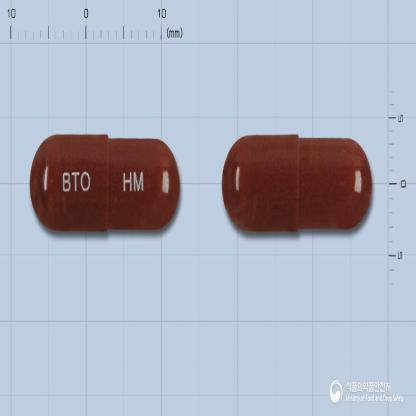pill: (28, 131, 182, 234), (220, 132, 373, 233)
